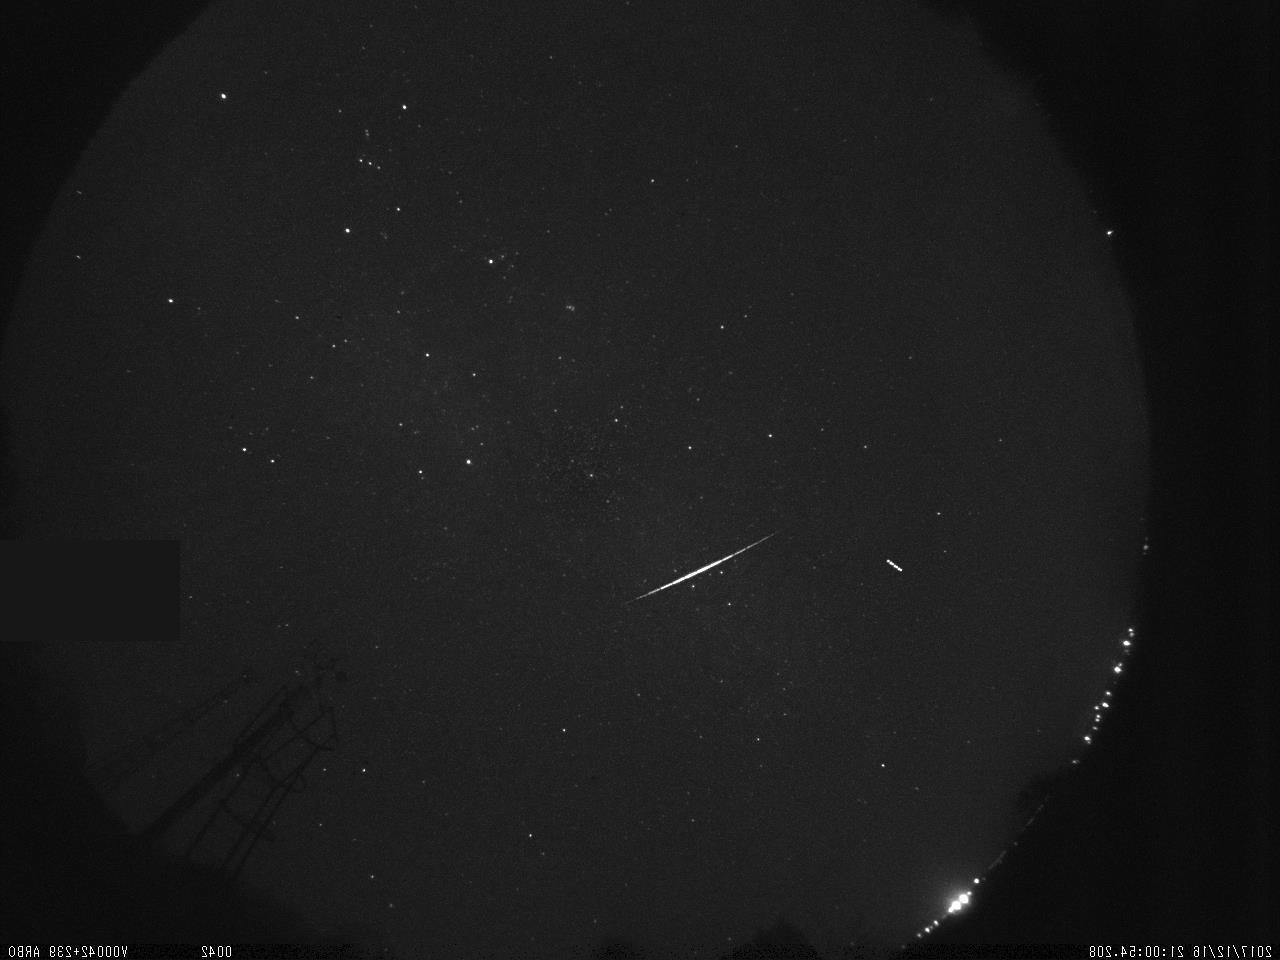meteor: (567, 497, 830, 623)
